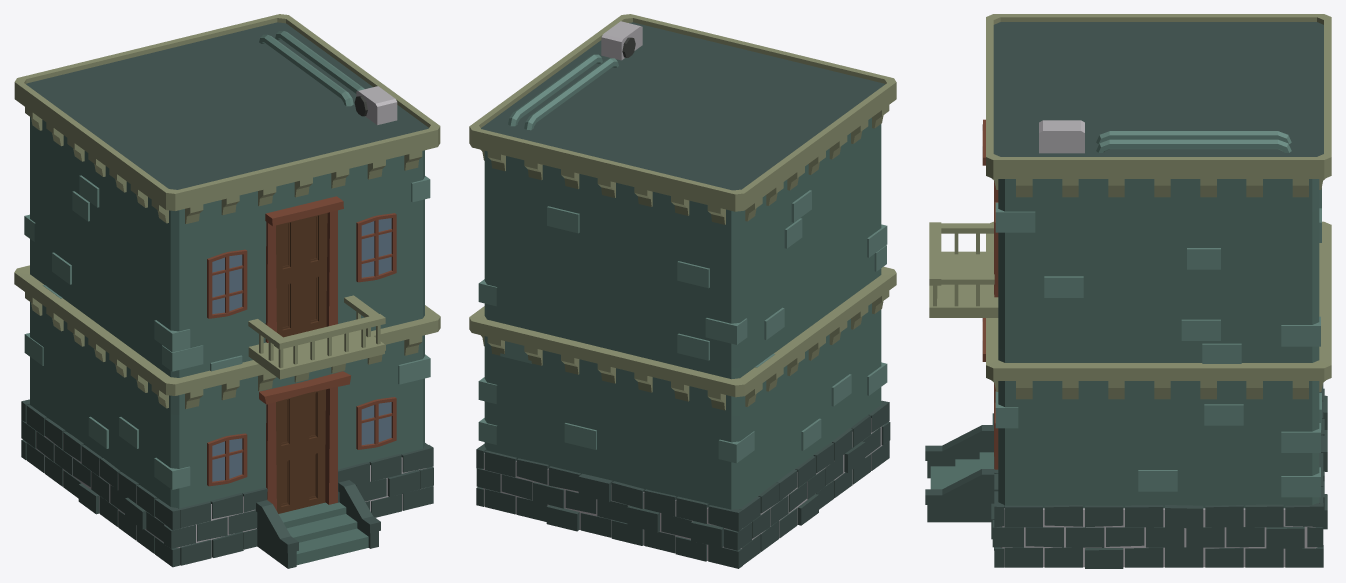
File: quaternius-buildings-pack-3-2-story-balcony-mat.glb
3 renders of one model, left to right at view 1: azimuth 30°, elevation 25°; view 2: azimuth 150°, elevation 25°; view 3: azimuth 270°, elevation 25°, orthographic. The views are drawn at different scales.
Parts seen in each view (by area): view 1: 2Story_Balcony_Mat; view 2: 2Story_Balcony_Mat; view 3: 2Story_Balcony_Mat.
Part boxes in pixels (x1,y1,x2,y2): 2Story_Balcony_Mat: (14,14,440,568); 2Story_Balcony_Mat: (469,14,896,568); 2Story_Balcony_Mat: (925,14,1331,568).
Size of the model in its own units: 2.16 by 2.94 by 2.53.
1 material, 1 textured.
